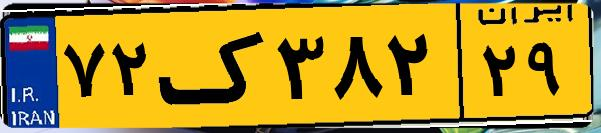2: (385, 28, 445, 110), (475, 38, 525, 113), (110, 28, 158, 98)
3: (270, 28, 330, 110)
7: (57, 26, 110, 100)
8: (330, 28, 385, 110)
9: (525, 38, 570, 115)
ک: (158, 12, 270, 120)
